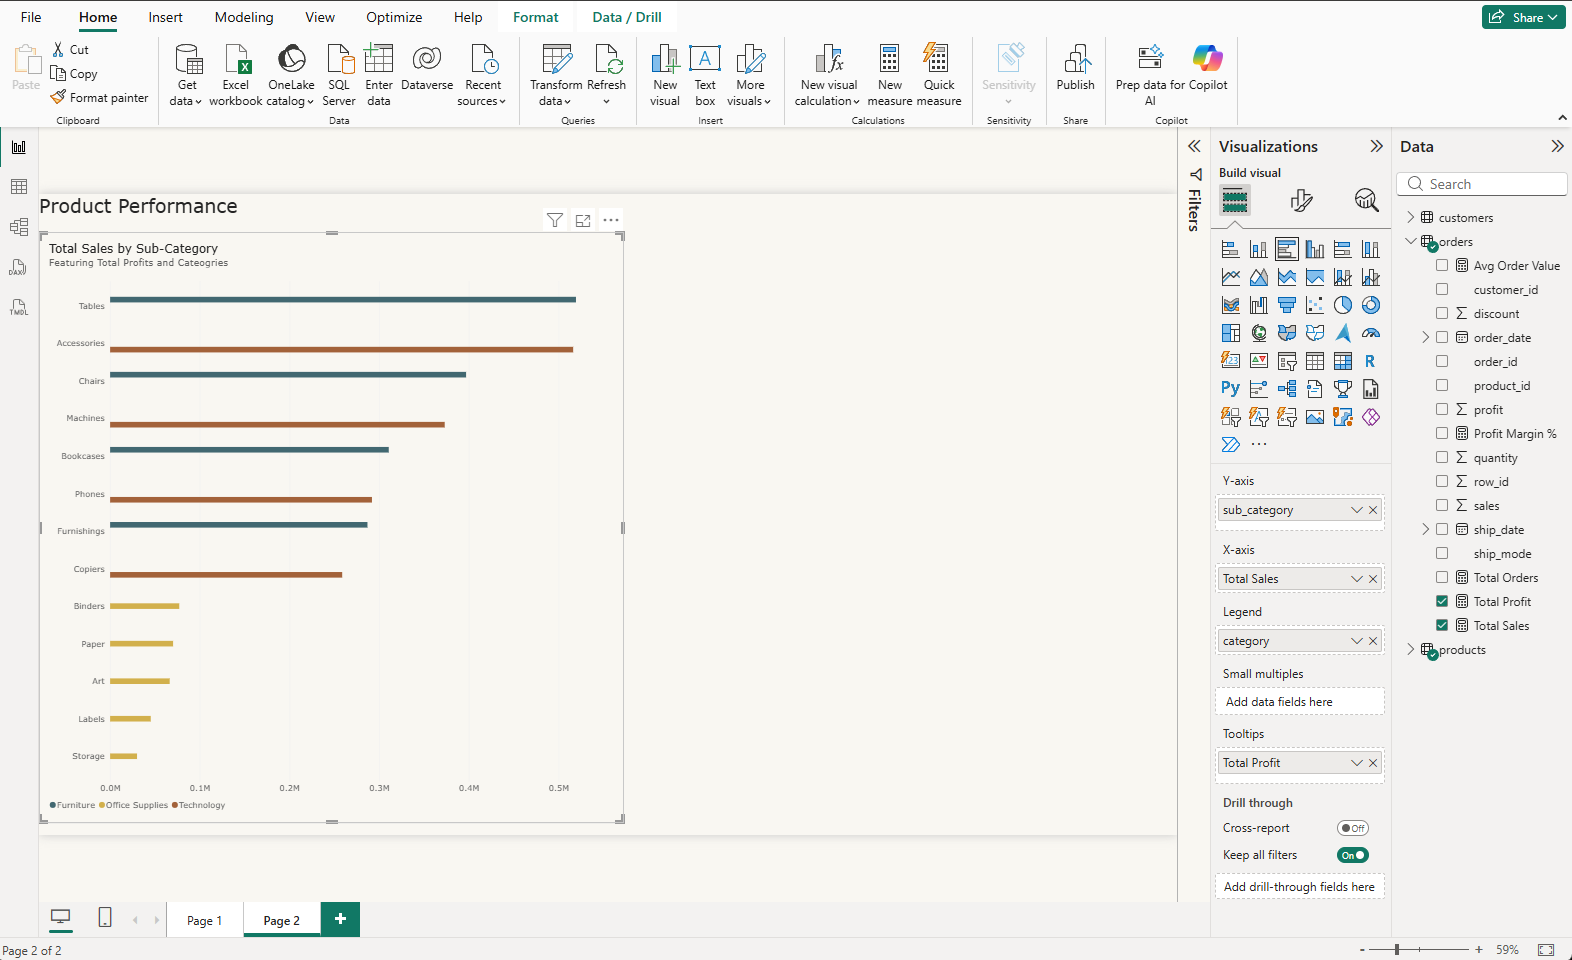

The page's visual inventory and layout, read from the dashboard file:
{"tool":"powerbi","page":{"name":"Page 2","canvas":[1920,1080],"ordinal":1},"visuals":[{"type":"textbox","box":[20.2,0,374.2,42.9],"z":0},{"type":"barChart","title":"Sales by Sub-Category","fields":{"Category":["products.sub_category"],"Y":["orders.Total Sales"],"Series":["products.category"]},"box":[20.2,401.5,895.9,651.2],"z":1000},{"type":"barChart","title":"Top 10 Products","fields":{"Category":["products.product_name"],"Y":["orders.Total Sales"],"Series":["products.category"]},"box":[946.5,43.9,958.3,497.7],"z":2000},{"type":"barChart","title":"Bottom 10 Products","fields":{"Category":["products.product_name"],"Y":["orders.Profit Margin %"],"Series":["products.category"]},"box":[946.5,555.1,958.3,497.7],"z":3000},{"type":"slicer","fields":{"Values":["orders.order_date"]},"box":[20.2,43.9,895.9,150.2],"z":4000},{"type":"slicer","fields":{"Values":["products.category"]},"box":[20.2,216,895.9,167],"z":5000}]}

Visuals, with their boxes on the page's 1920x1080 design canvas (x1, y1, x2, y2). These are canvas units, not pixel positions in the 1572x960 screenshot, which may show the page scaled, cropped or inside an application window:
textbox: <region>20, 0, 394, 43</region>
"Sales by Sub-Category" barChart: <region>20, 402, 916, 1053</region>
"Top 10 Products" barChart: <region>946, 44, 1905, 542</region>
"Bottom 10 Products" barChart: <region>946, 555, 1905, 1053</region>
slicer - orders.order_date: <region>20, 44, 916, 194</region>
slicer - products.category: <region>20, 216, 916, 383</region>
